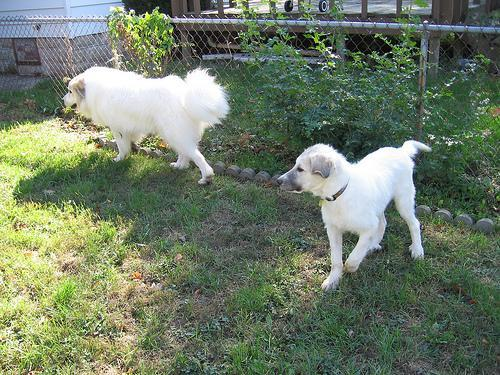Great_Pyrenees: (272, 138, 431, 296), (60, 67, 230, 187)
